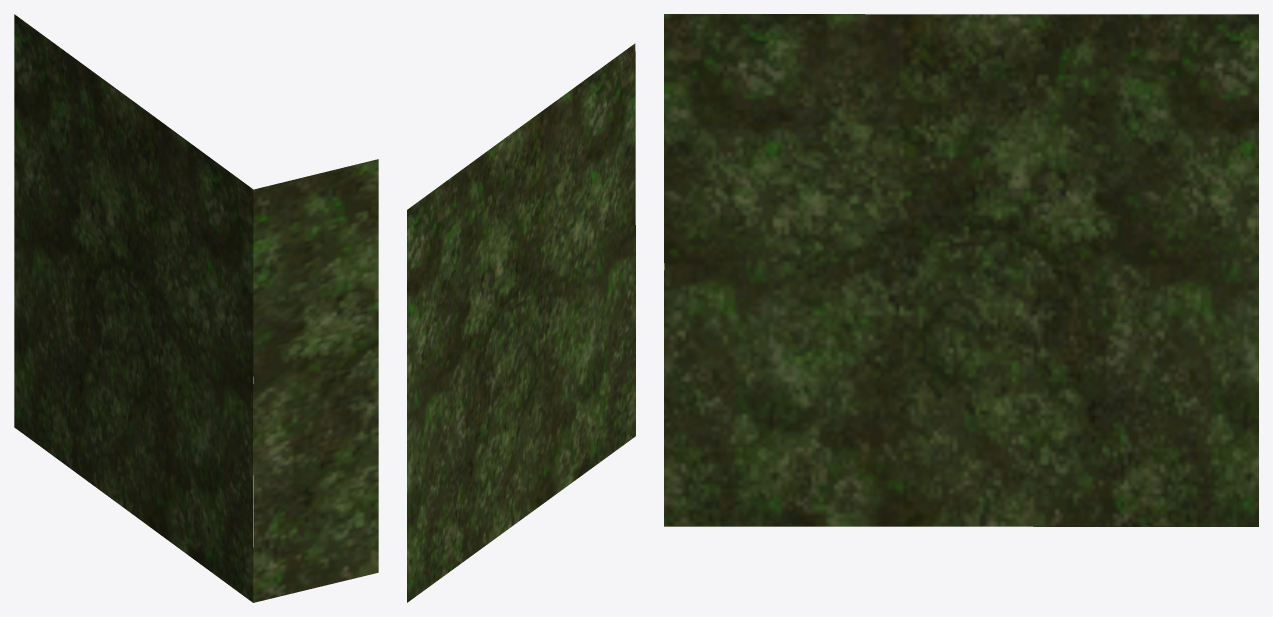
The model's file is OVERHILL_A_01_OBJECT143.fbx.
3 views of the same model, side by side, from view 1: azimuth 30°, elevation 25°; view 2: azimuth 150°, elevation 25°; view 3: azimuth 270°, elevation 25° (orthographic). The views are drawn at different scales.
Parts seen in each view (by area): view 1: OVERHILL_A_01_OBJECT143; view 2: OVERHILL_A_01_OBJECT143; view 3: OVERHILL_A_01_OBJECT143.
Boxes of the visible parts, box(x1,y1,x2,y2) form: OVERHILL_A_01_OBJECT143: box(14, 14, 378, 602); OVERHILL_A_01_OBJECT143: box(407, 43, 635, 602); OVERHILL_A_01_OBJECT143: box(664, 14, 1258, 526).
Size of the model in its own units: 9998 by 31455 by 33046.
1 material, 1 textured.
